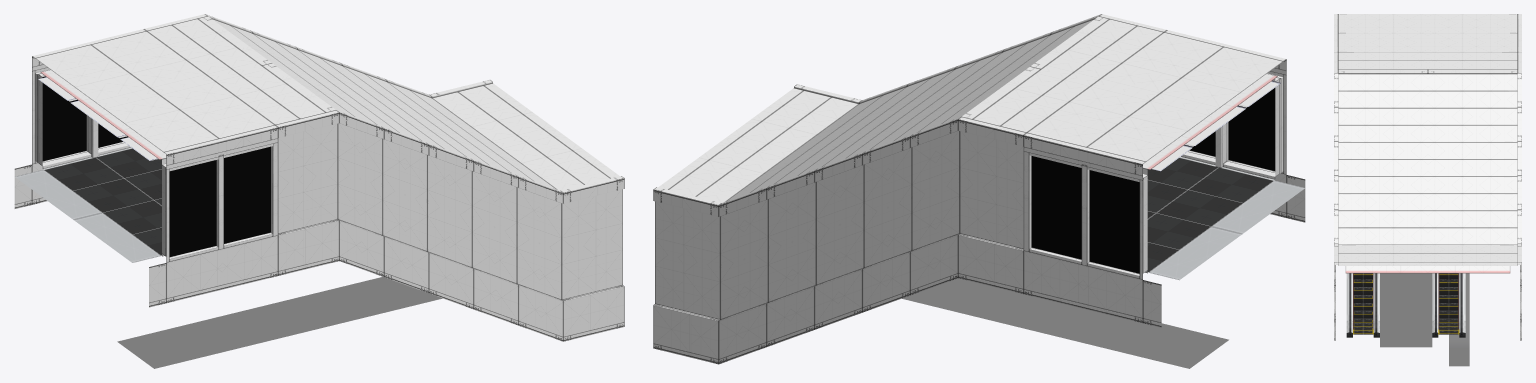
Rendered from AirportGangway_R_Near.fbx.
3 renders of one model, left to right at view 1: azimuth 30°, elevation 25°; view 2: azimuth 150°, elevation 25°; view 3: azimuth 270°, elevation 25°, orthographic. The views are drawn at different scales.
Visible parts, largest first — view 1: gangway exterior, gangway interior; view 2: gangway exterior, gangway interior; view 3: gangway exterior, gangway interior, 1000 escalator.003, 1000 escalator.004.
Part boxes in pixels (<box>): gangway exterior: <box>14,14,624,341</box>; gangway interior: <box>15,64,442,368</box>; gangway exterior: <box>653,14,1305,364</box>; gangway interior: <box>902,68,1304,368</box>; gangway exterior: <box>1334,14,1521,340</box>; gangway interior: <box>1345,266,1510,366</box>; 1000 escalator.003: <box>1346,273,1379,337</box>; 1000 escalator.004: <box>1432,273,1465,337</box>.
Size of the model in its own units: 19.48 by 9 by 10.5.
